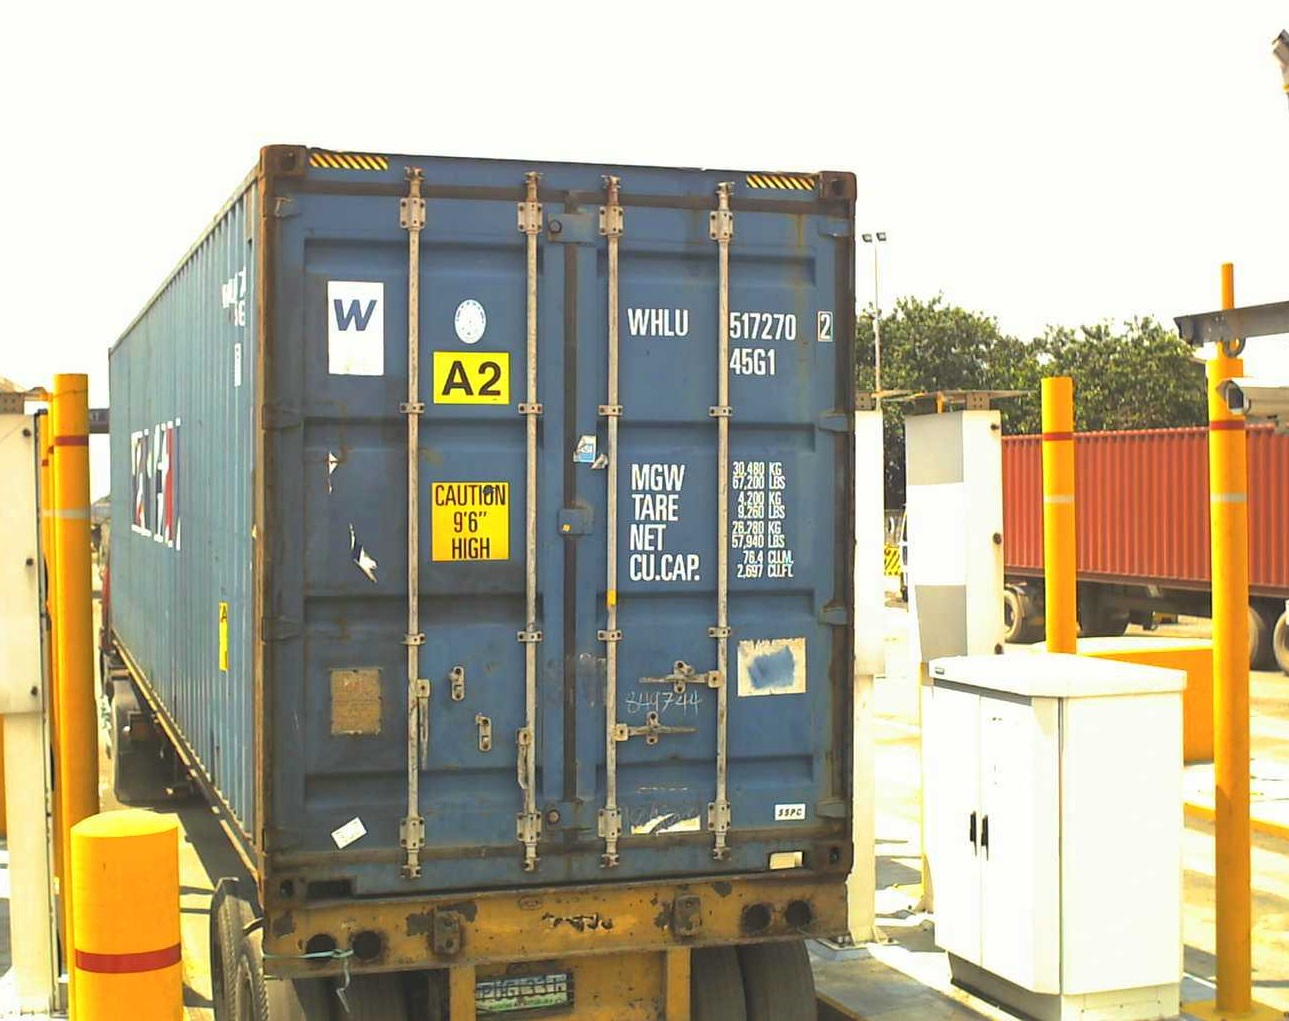container_door: (258, 143, 854, 910)
